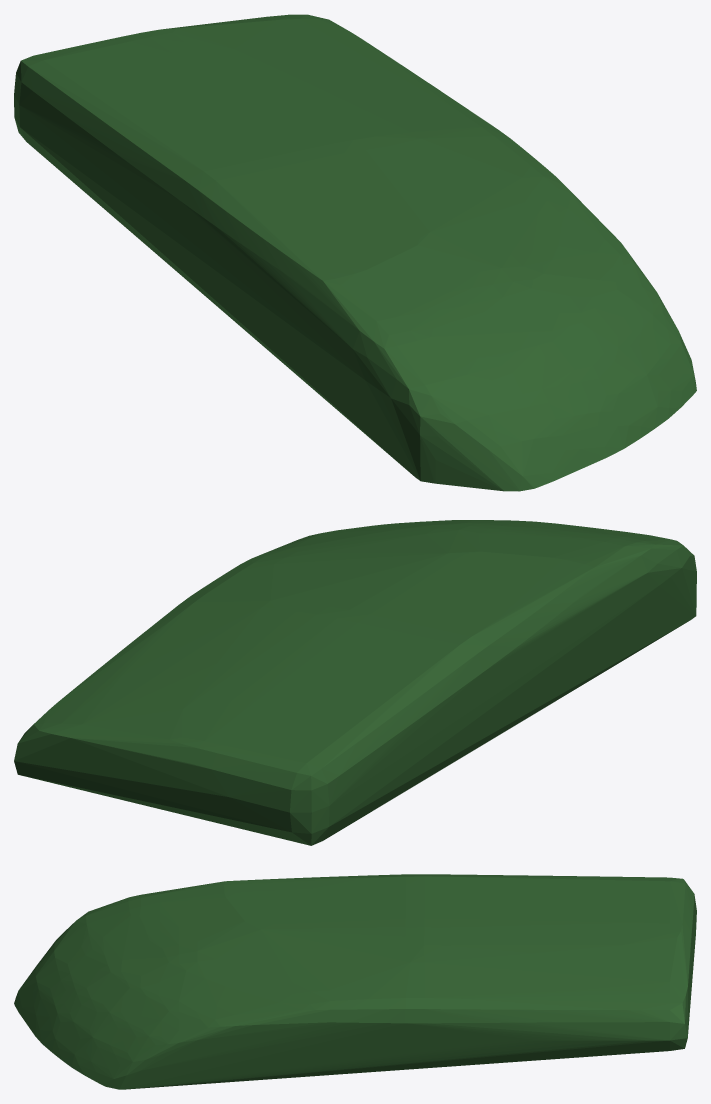
File: left-shoulder-yaw-0_part_19.obj
3 views of the same model, one above another, from view 1: azimuth 30°, elevation 25°; view 2: azimuth 150°, elevation 25°; view 3: azimuth 270°, elevation 25° (orthographic). The views are drawn at different scales.
Size of the model in its own units: 0.0197 by 0.00788 by 0.0468.
